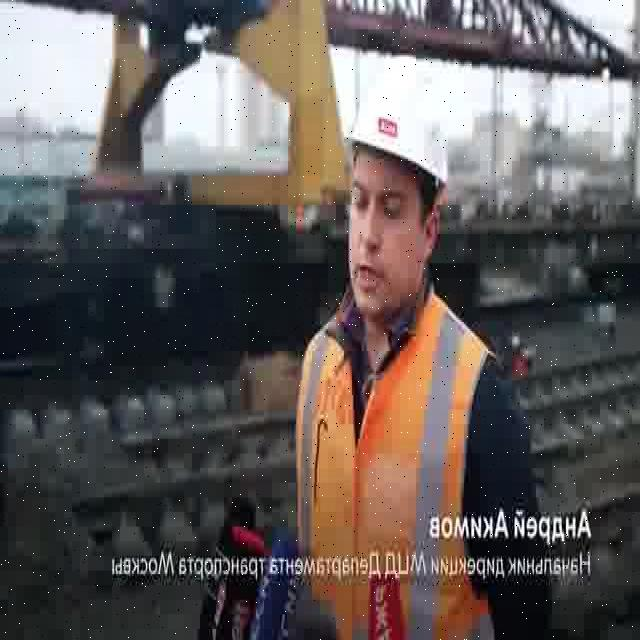Hard_hat: (341, 88, 444, 183)
Vest: (294, 309, 484, 640)
